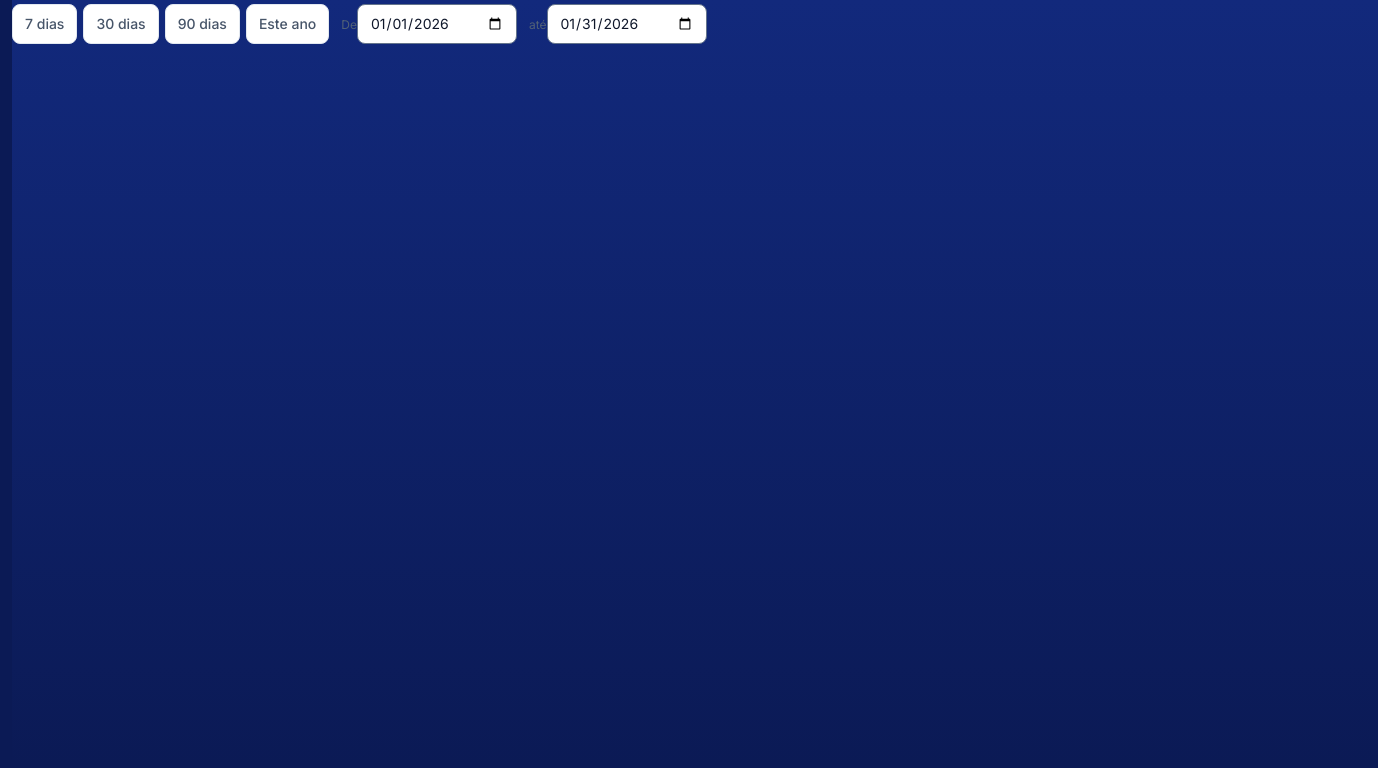
Test case: FiltroPeriodo › corrigir a data some com o aviso
The image size is (1378, 768).
Type "2026-02-15" into the date field named "Data inicial". click: (437, 24)
box: [357,4,517,44]
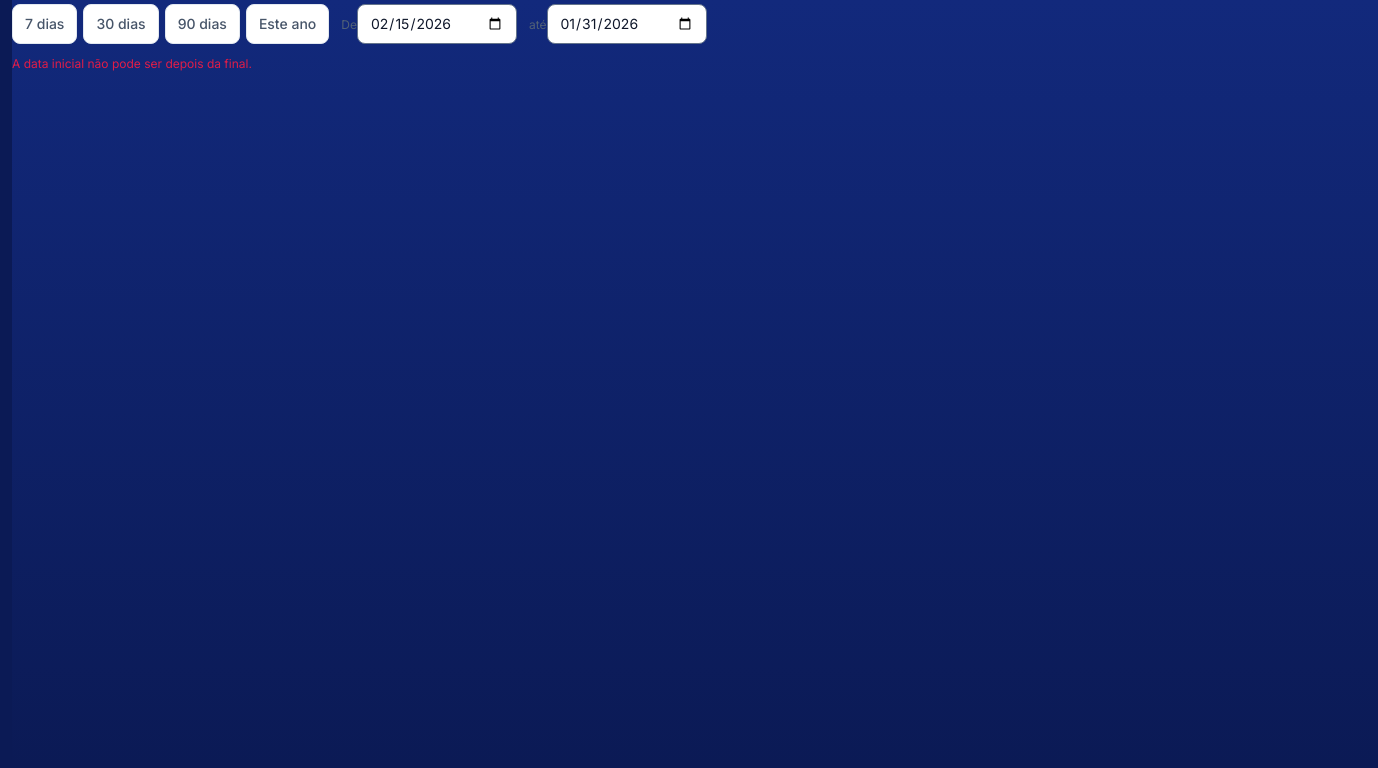
Expected: the message "A data inicial não pode ser depois da final." is shown, [12,56,252,71]
Type "2026-01-05" into the date field named "Data inicial". click: (437, 24)
box: [357,4,517,44]
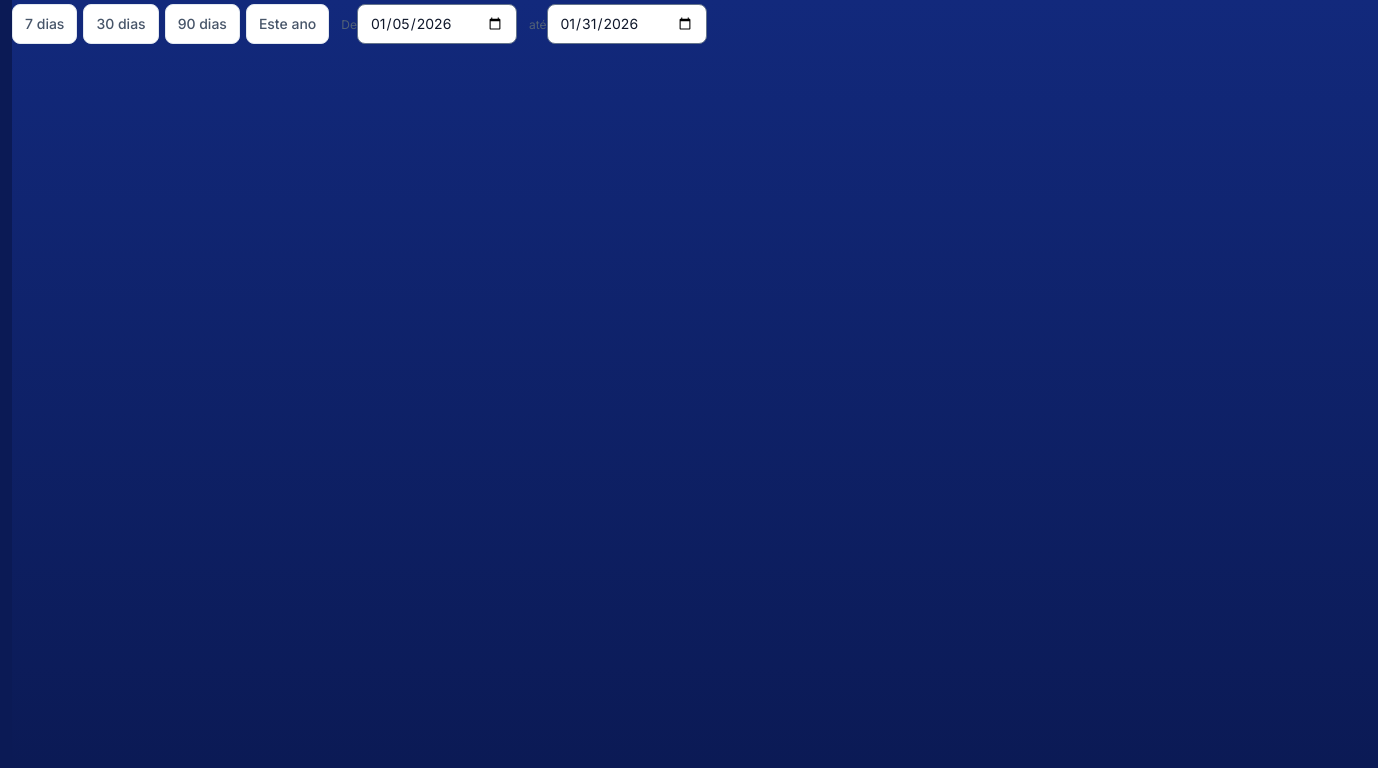
Expected: the message "A data inicial não pode ser depois da final." is gone
